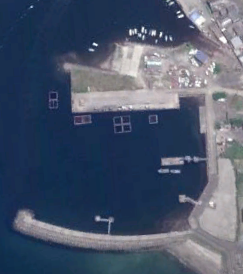house: (193, 48, 212, 66)
ship: (156, 165, 170, 175), (167, 167, 183, 175), (89, 40, 100, 47), (86, 47, 95, 53)
square: (42, 98, 64, 111), (117, 111, 133, 126), (80, 111, 94, 128), (119, 120, 136, 134), (146, 111, 161, 126), (110, 113, 124, 127), (111, 121, 126, 134), (46, 89, 60, 101), (72, 113, 84, 125)
